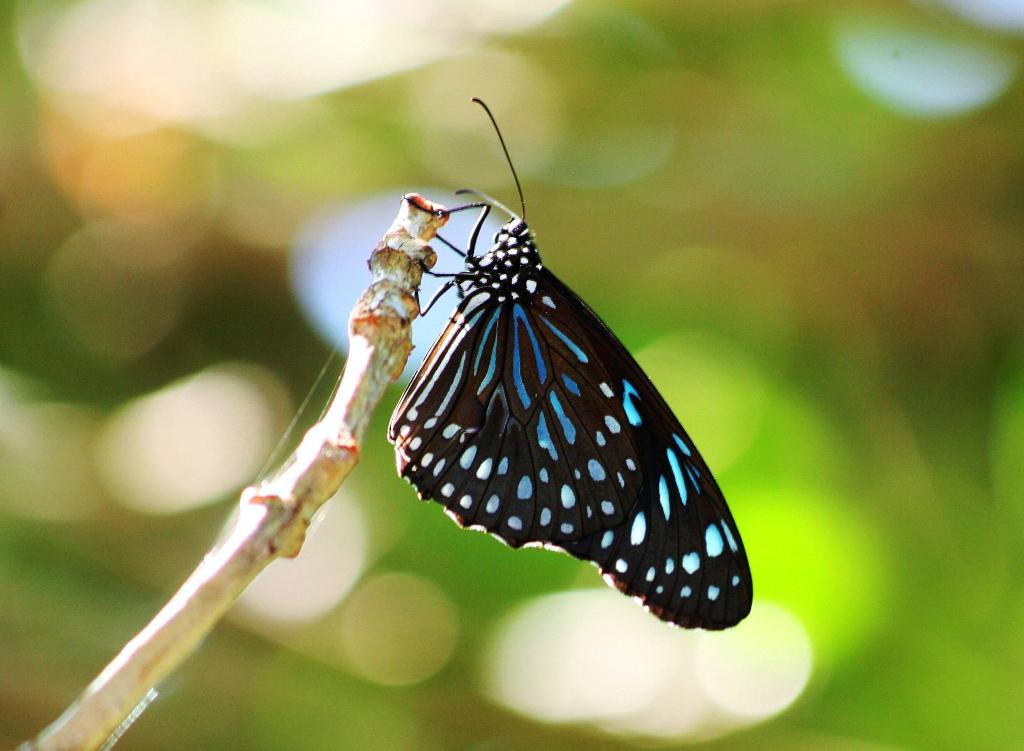Butterfly: (397, 158, 782, 637)
